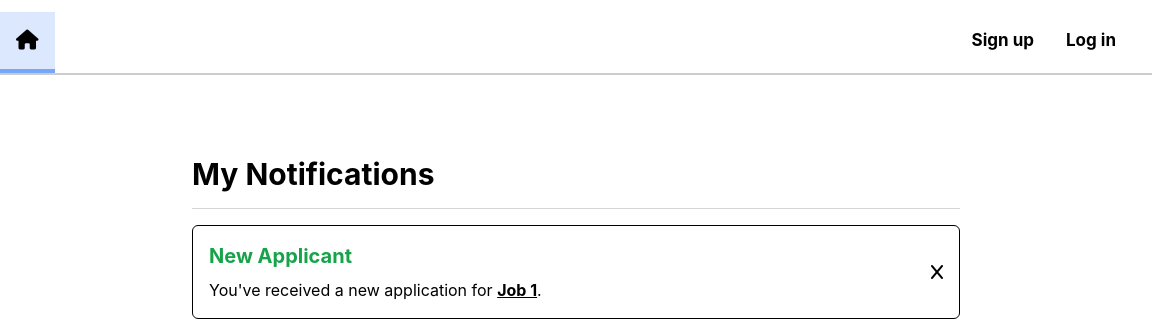
Test: NotificationsPage › deletes notification when delete button is clicked
This screenshot has width=1152, height=336.
Expected: the heading "My Notifications" is shown, [192, 156, 434, 192]
Expected: the link "Job 1" is shown, [497, 280, 537, 300]
Step 1. Click the 3rd button → (937, 272), box [931, 242, 943, 302]
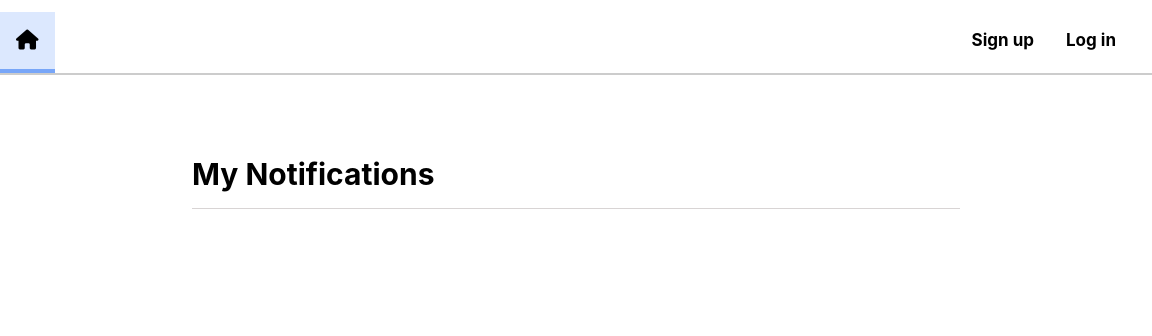
Now the link "Job 1" is gone
